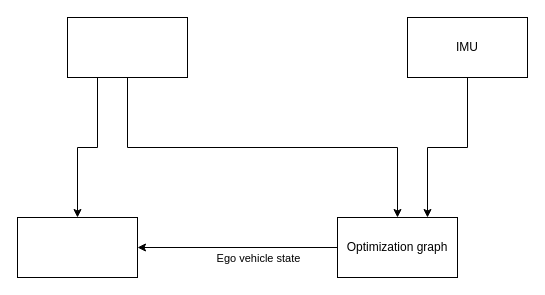
Some shapes in this 545 by 295 pixel diagram are drawn without their labels. The shapes that lost their labels are listed below. From the top down, each one's centre as x and y in pixels, then its label:
At (x=127, y=47): "Lidar".
At (x=77, y=247): "Map update".
